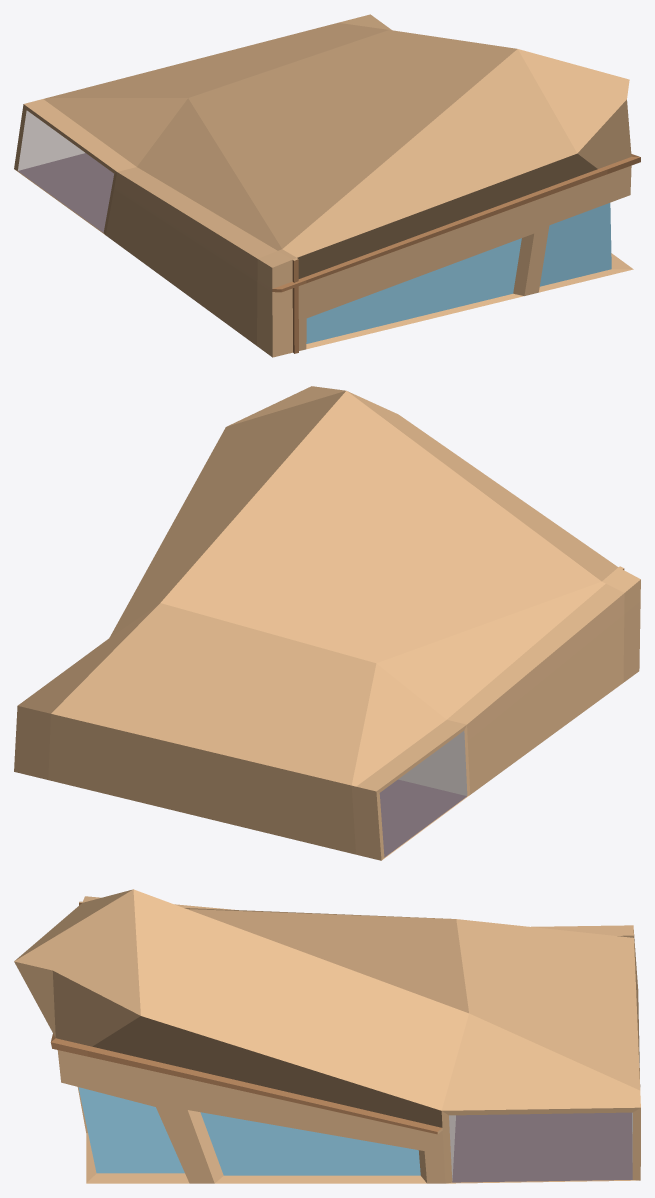
File: trainstation.fbx
3 views of the same model, one above another, from view 1: azimuth 30°, elevation 25°; view 2: azimuth 150°, elevation 25°; view 3: azimuth 270°, elevation 25° (orthographic). The views are drawn at different scales.
Visible parts, largest first — view 1: station; view 2: station; view 3: station.
Boxes of the visible parts, x1,y1,x2,y2 form: station: [14, 14, 640, 357]; station: [14, 386, 640, 860]; station: [14, 889, 640, 1183].
Size of the model in its own units: 5322 by 6984 by 3010.
